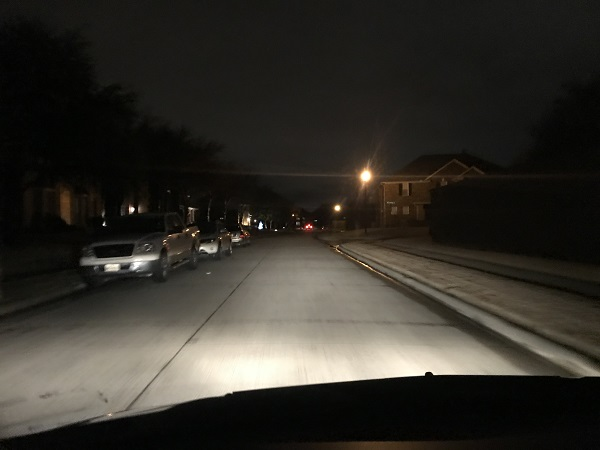car: (195, 220, 233, 257), (230, 223, 250, 247)
truck: (79, 213, 201, 287)
